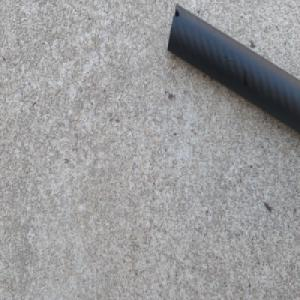LuggagePart: (166, 2, 300, 136)
